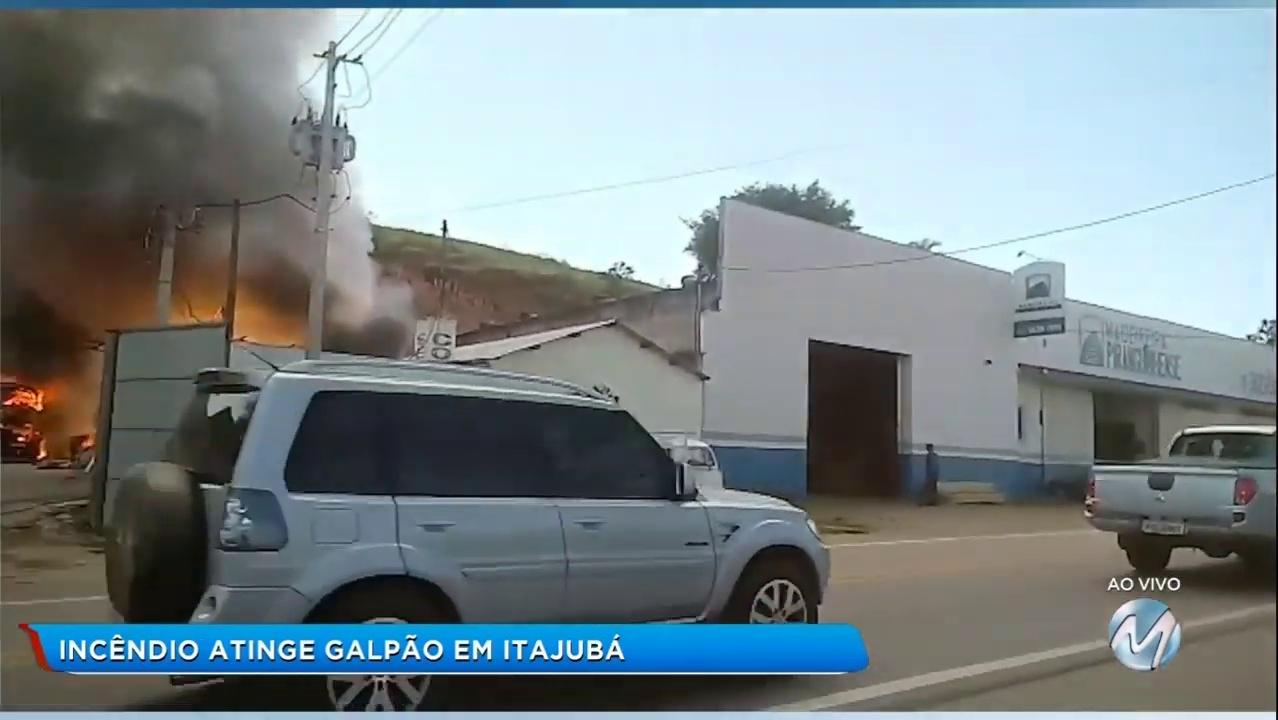Fire: (5, 6, 414, 364), (1, 377, 47, 414), (35, 437, 49, 460)
